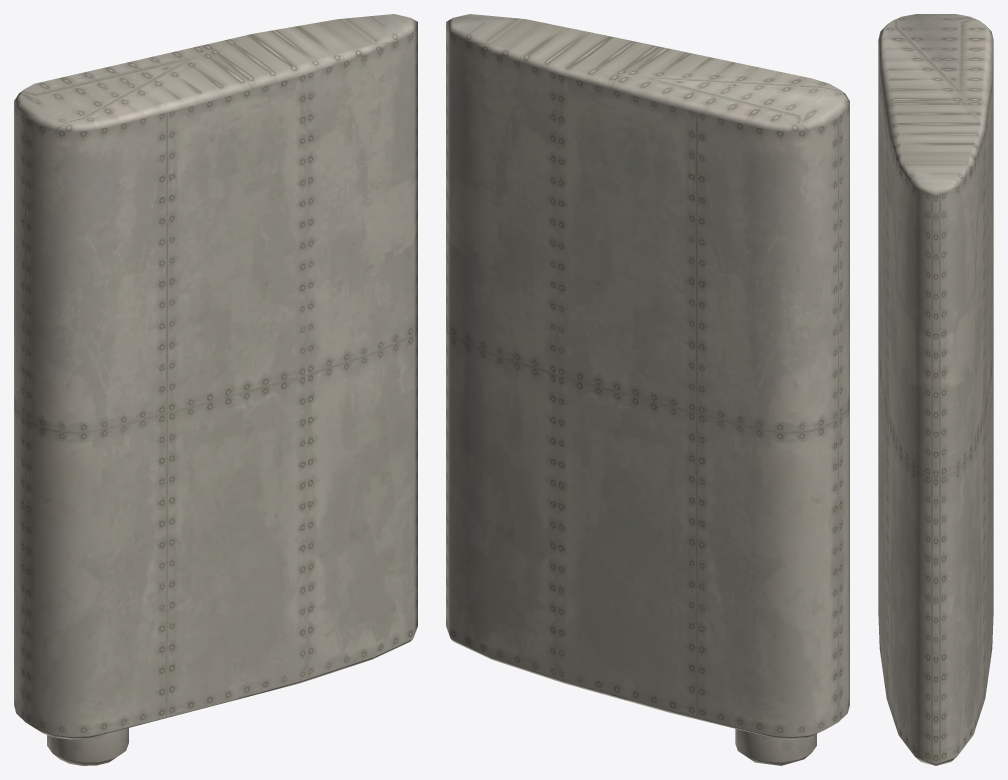
Rendered from cargo_ship_fin.glb.
3 views of the same model, side by side, from view 1: azimuth 30°, elevation 25°; view 2: azimuth 150°, elevation 25°; view 3: azimuth 270°, elevation 25° (orthographic). The views are drawn at different scales.
Visible parts, largest first — view 1: cargo_ship_fin; view 2: cargo_ship_fin; view 3: cargo_ship_fin.
Part boxes in pixels (x1=…): cargo_ship_fin: x1=14, y1=14, x2=417, y2=765; cargo_ship_fin: x1=446, y1=14, x2=849, y2=765; cargo_ship_fin: x1=878, y1=14, x2=993, y2=765.
Size of the model in its own units: 5.16 by 8.24 by 1.4.
1 material, 1 textured.
